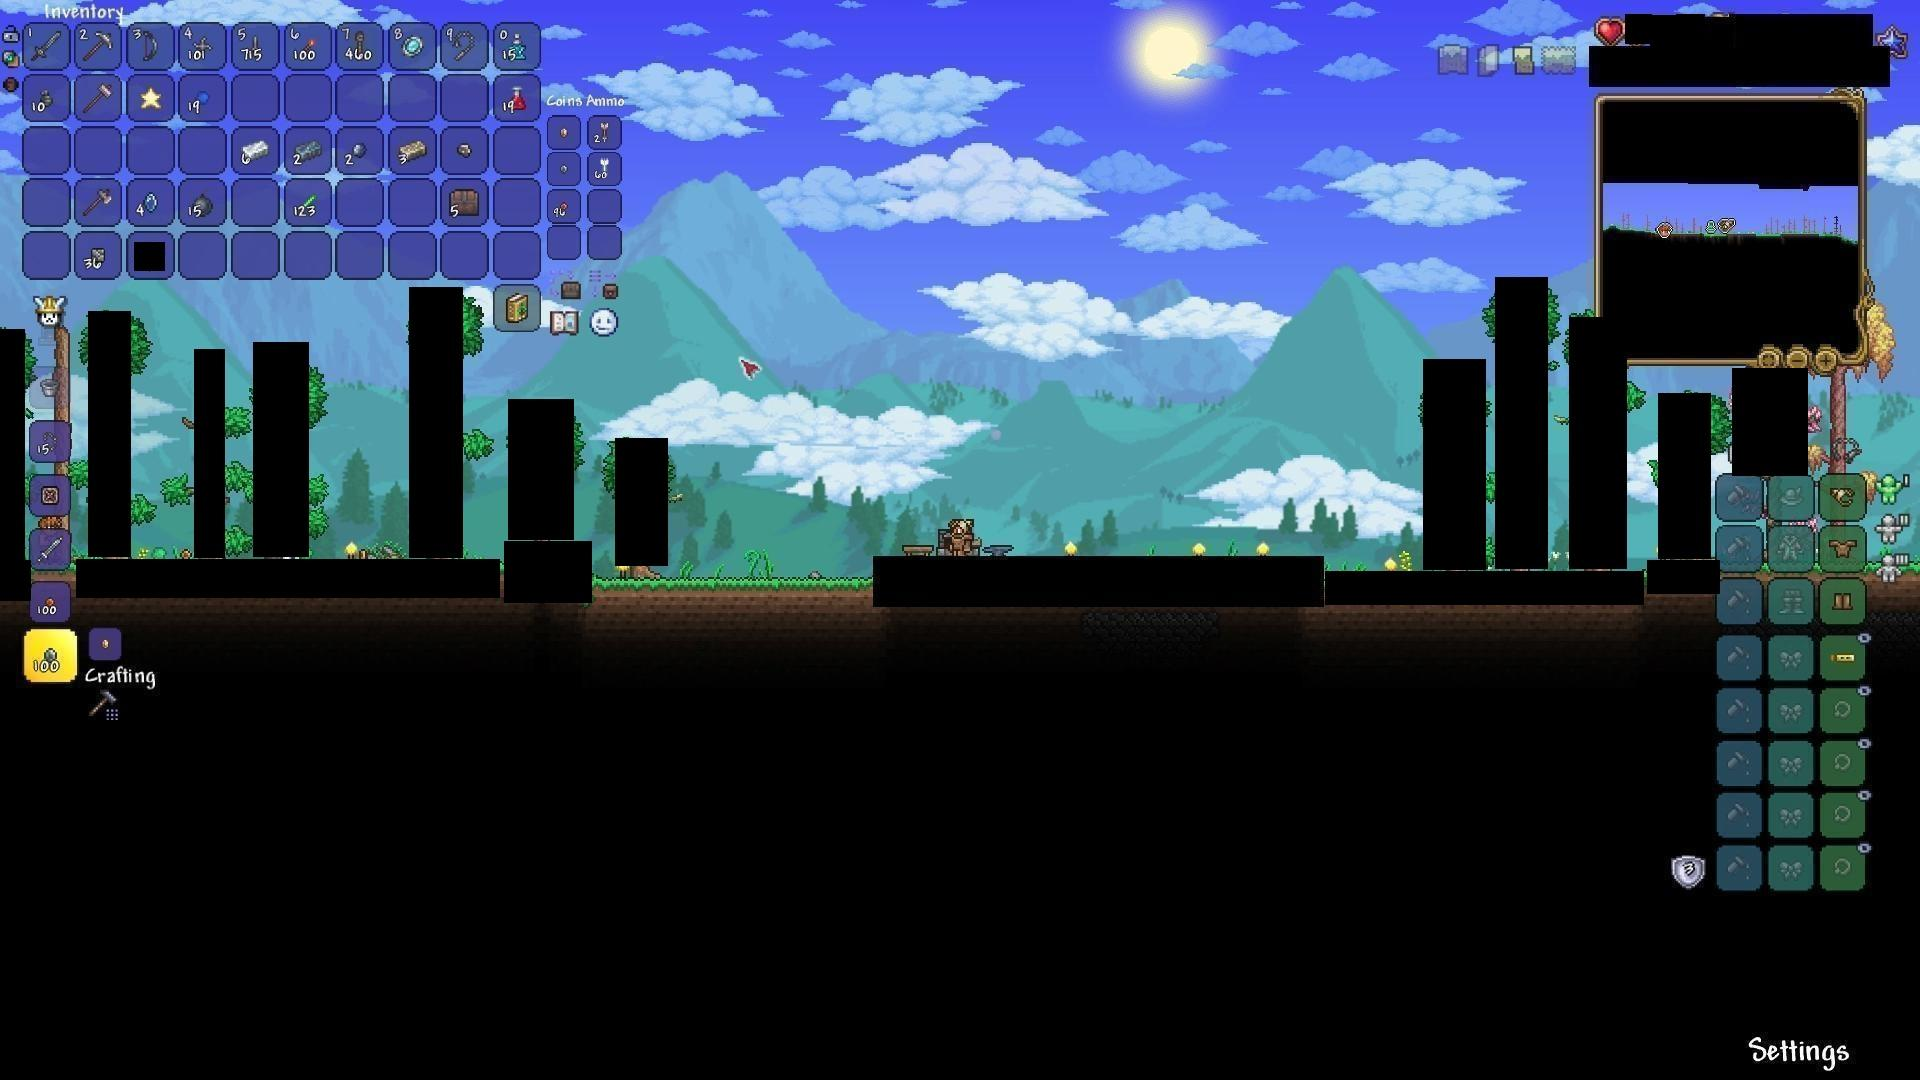breastplate: (1830, 538, 1858, 558)
dirt: (596, 570, 872, 608)
heart: (1593, 16, 1626, 46)
helmet: (1829, 485, 1855, 508)
legs: (1830, 589, 1857, 615)
workbench: (899, 537, 936, 562)
